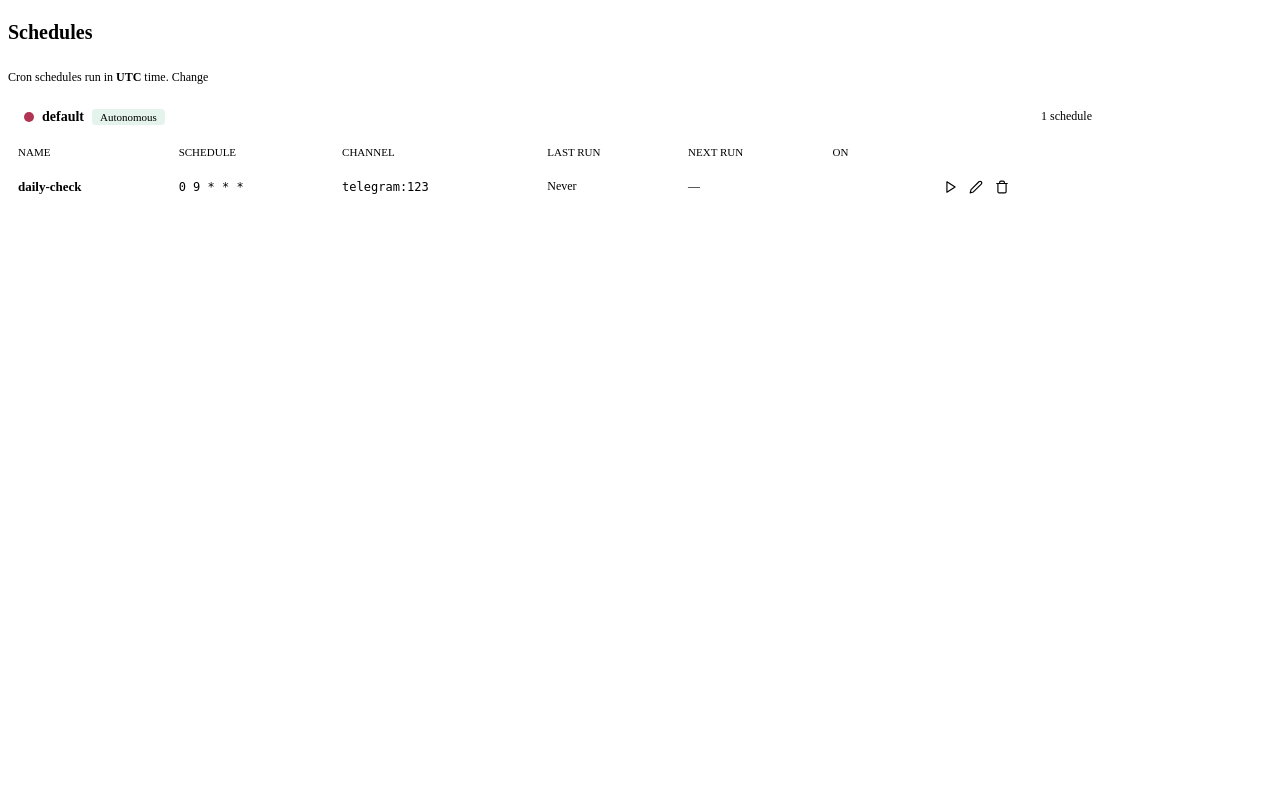
Test: Schedules page › edit button opens pre-filled form
This screenshot has width=1280, height=800.
Click the button named "Edit daily-check".
click(976, 187)  # box [965, 176, 987, 198]
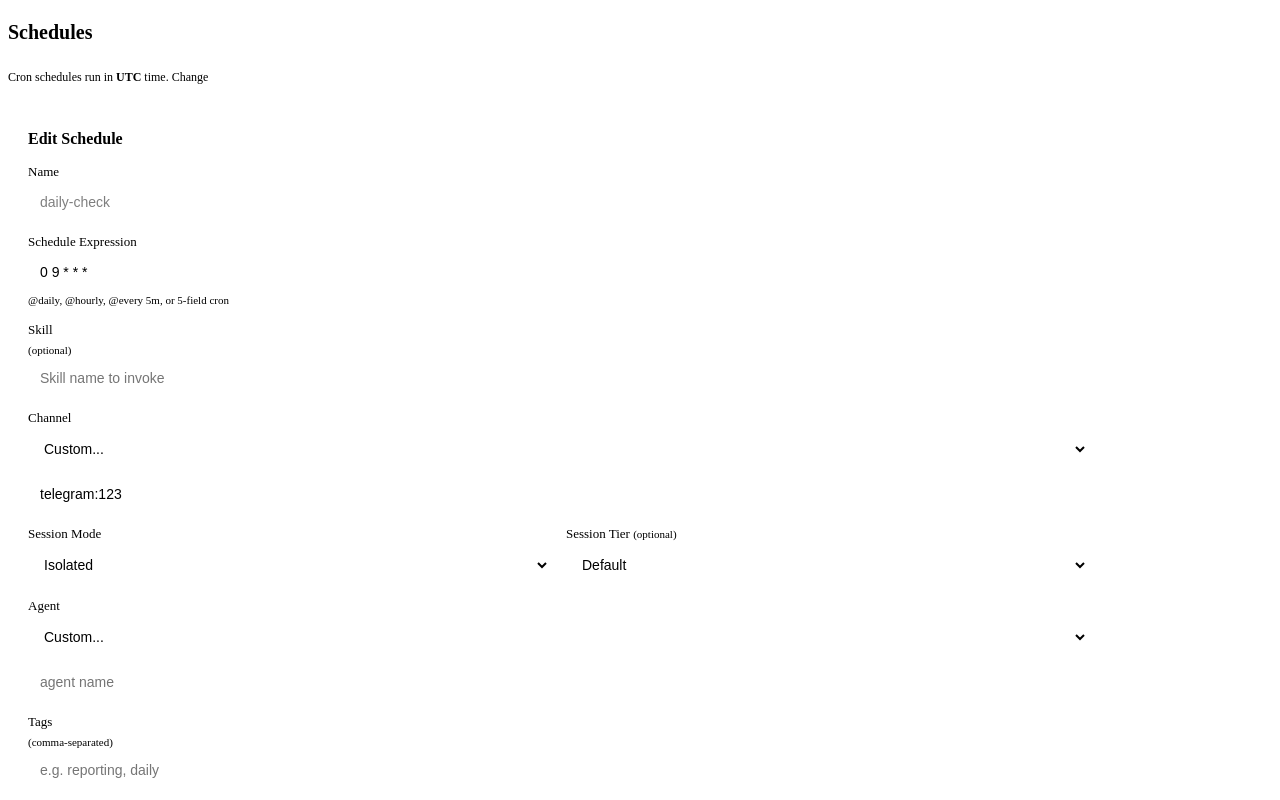
Expected: the heading "Edit Schedule" is shown, [28, 130, 123, 147]
